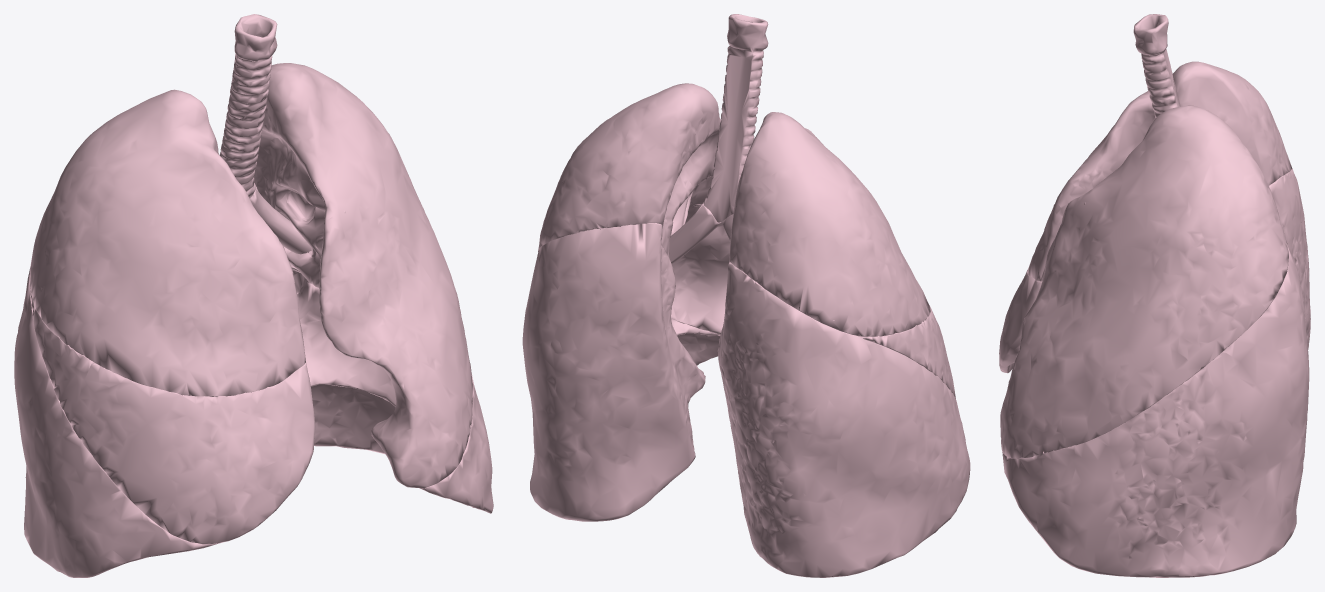
File: respiratory.glb
3 views of the same model, side by side, from view 1: azimuth 30°, elevation 25°; view 2: azimuth 150°, elevation 25°; view 3: azimuth 270°, elevation 25° (orthographic). The views are drawn at different scales.
Visible parts, largest first — view 1: FMA7333, FMA7370, FMA7383, FMA7337, FMA7371, FMA7394, FMA7409; view 2: FMA7337, FMA7371, FMA7333, FMA7370, FMA7394, FMA7383, FMA7409; view 3: FMA7370, FMA7371, FMA7333, FMA7394, FMA7337, FMA7383.
Part boxes in pixels (x1=…): FMA7333: x1=29, y1=89, x2=305, y2=396; FMA7370: x1=254, y1=63, x2=472, y2=488; FMA7383: x1=30, y1=288, x2=315, y2=544; FMA7337: x1=14, y1=269, x2=219, y2=577; FMA7371: x1=290, y1=264, x2=493, y2=513; FMA7394: x1=219, y1=14, x2=277, y2=198; FMA7409: x1=250, y1=186, x2=345, y2=254; FMA7337: x1=717, y1=262, x2=970, y2=577; FMA7371: x1=522, y1=222, x2=720, y2=521; FMA7333: x1=729, y1=112, x2=930, y2=336; FMA7370: x1=538, y1=83, x2=730, y2=335; FMA7394: x1=703, y1=14, x2=768, y2=222; FMA7383: x1=860, y1=305, x2=955, y2=398; FMA7409: x1=669, y1=203, x2=834, y2=320; FMA7370: x1=1000, y1=105, x2=1288, y2=458; FMA7371: x1=1002, y1=245, x2=1309, y2=577; FMA7333: x1=1027, y1=61, x2=1292, y2=281; FMA7394: x1=1133, y1=14, x2=1180, y2=117; FMA7337: x1=1269, y1=169, x2=1310, y2=349; FMA7383: x1=999, y1=270, x2=1042, y2=373.
Size of the model in its own units: 0.2533 by 0.3022 by 0.1809.
